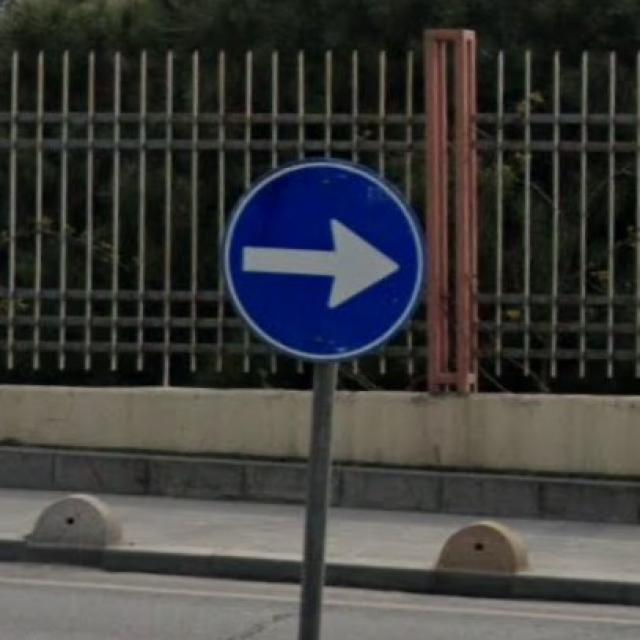Turn Right: (224, 157, 421, 359)
